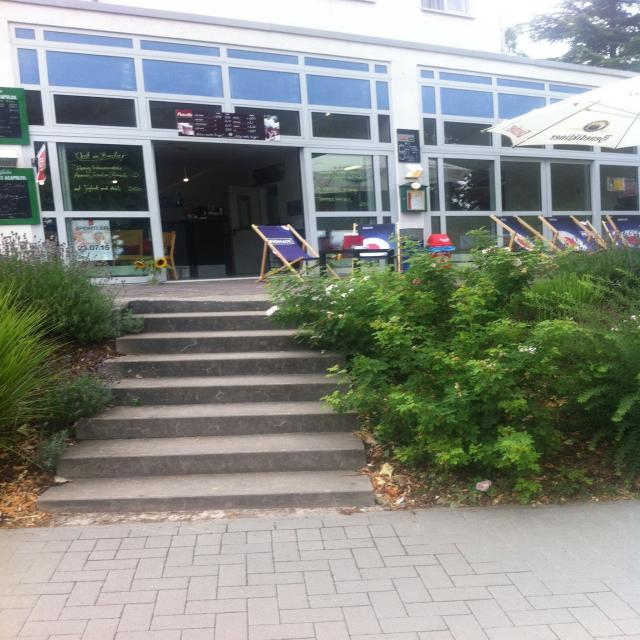AVOID: (40, 291, 380, 508)
